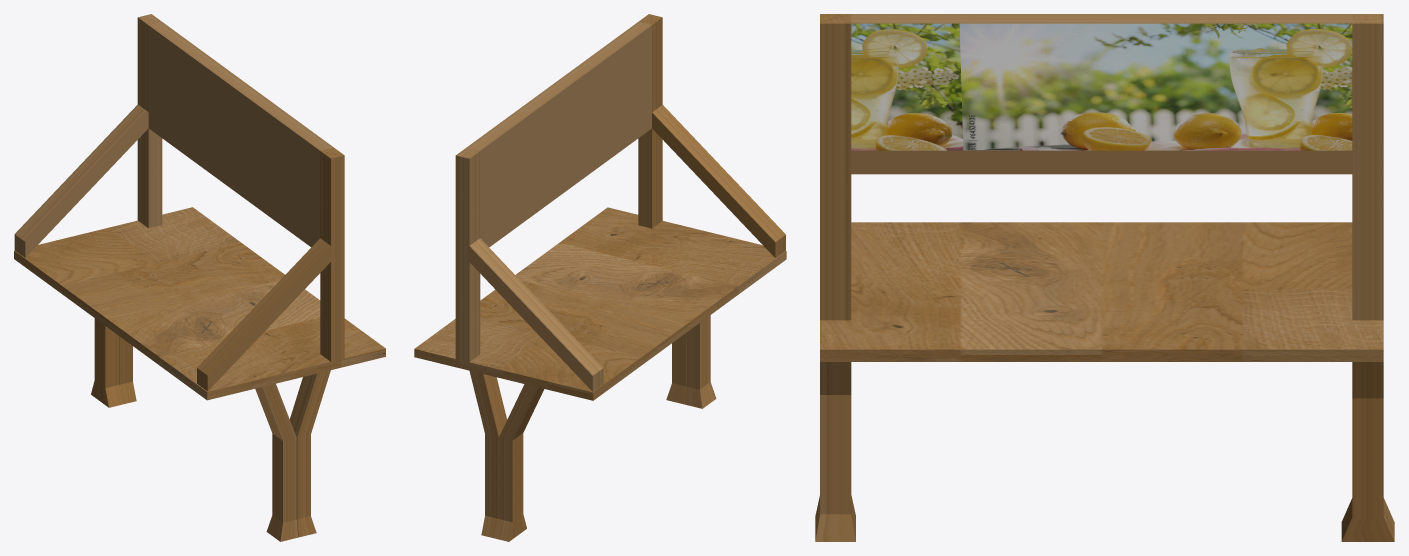
Rendered from Lemonade Stand.fbx.
3 views of the same model, side by side, from view 1: azimuth 30°, elevation 25°; view 2: azimuth 150°, elevation 25°; view 3: azimuth 270°, elevation 25° (orthographic). The views are drawn at different scales.
Parts seen in each view (by area): view 1: Cube; view 2: Cube; view 3: Cube.
Part boxes in pixels (<box>): Cube: <box>14,14,385,541</box>; Cube: <box>414,14,786,541</box>; Cube: <box>815,14,1394,541</box>.
Bounding box in the file's own units: 294 × 581 × 565.
2 materials, 2 textured.
